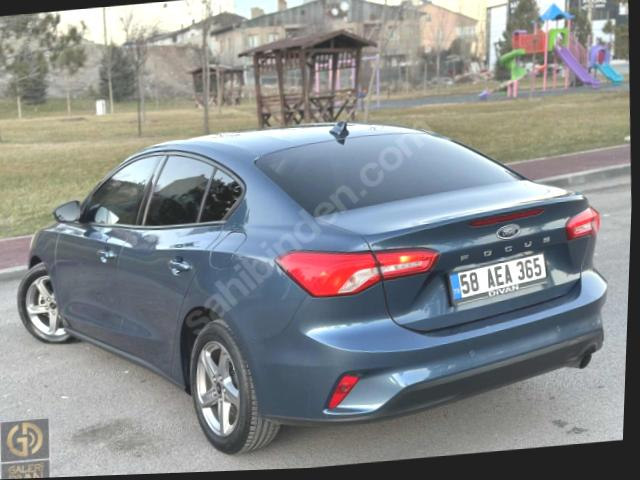plaka: (450, 253, 546, 305)
